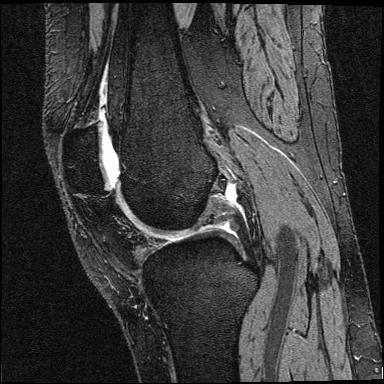SagKneeJointArea: (59, 120, 263, 292)
